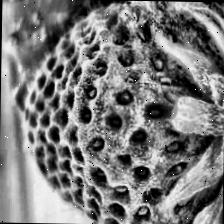Powdery Mildew Fruit: (20, 0, 224, 224)
